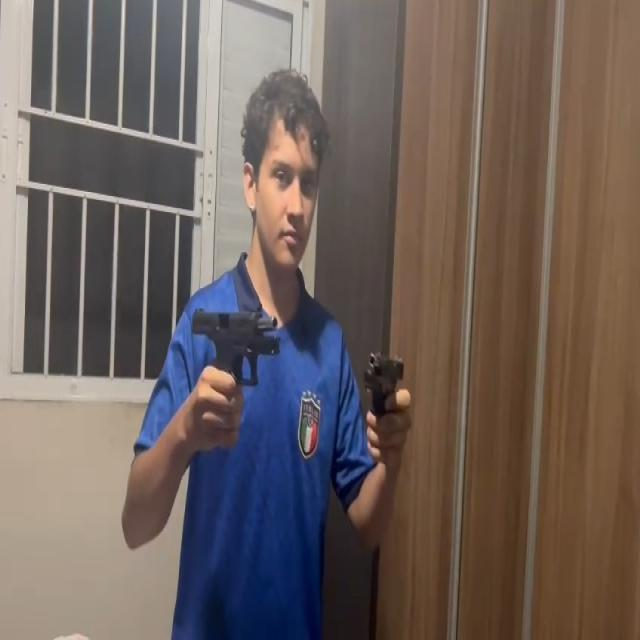gun: (190, 299, 282, 396), (364, 352, 408, 419)
